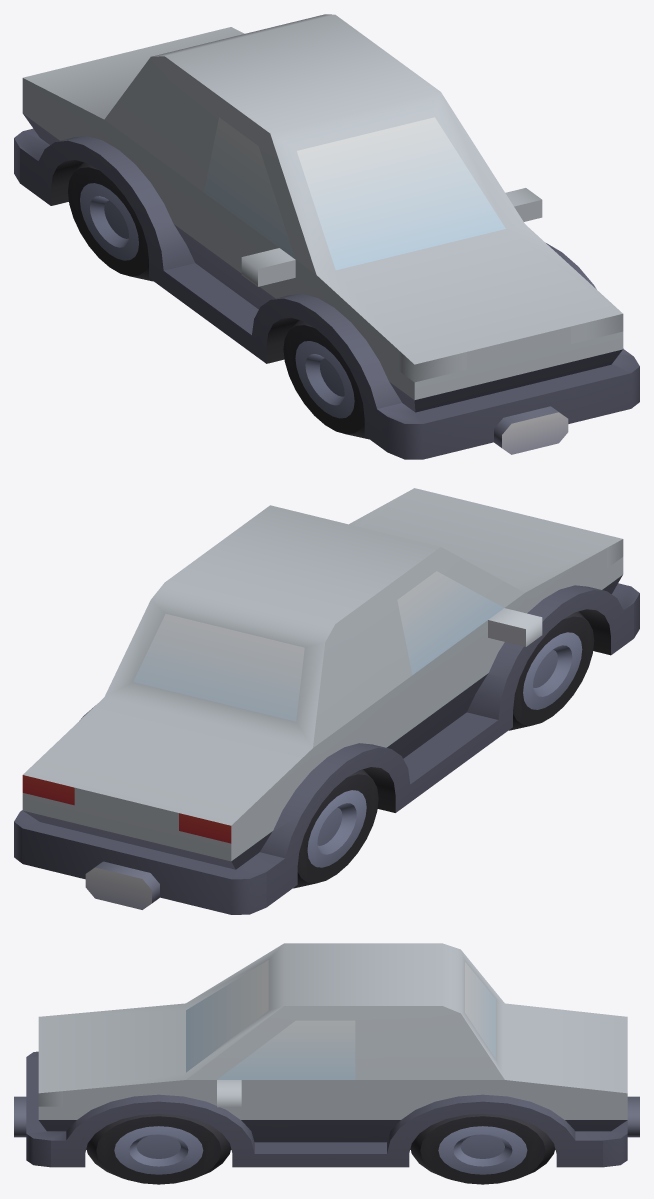
3 views of the same model, one above another, from view 1: azimuth 30°, elevation 25°; view 2: azimuth 150°, elevation 25°; view 3: azimuth 270°, elevation 25° (orthographic). The views are drawn at different scales.
Visible parts, largest first — view 1: body, wheel-front-right, wheel-back-right; view 2: body, wheel-back-right, wheel-front-right; view 3: body, wheel-back-left, wheel-front-left.
Part boxes in pixels (x1,y1,x2,y2): body: [14, 14, 639, 459]; wheel-front-right: [283, 320, 368, 439]; wheel-back-right: [68, 162, 153, 281]; body: [14, 488, 639, 914]; wheel-back-right: [293, 769, 378, 888]; wheel-front-right: [509, 611, 594, 730]; body: [14, 943, 639, 1167]; wheel-back-left: [410, 1113, 555, 1184]; wheel-front-left: [86, 1113, 231, 1184].
Size of the model in its own units: 1.85 by 1.44 by 4.69.
